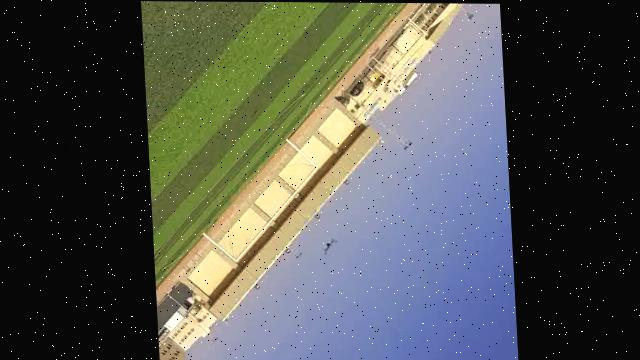drone: (310, 236, 338, 256)
